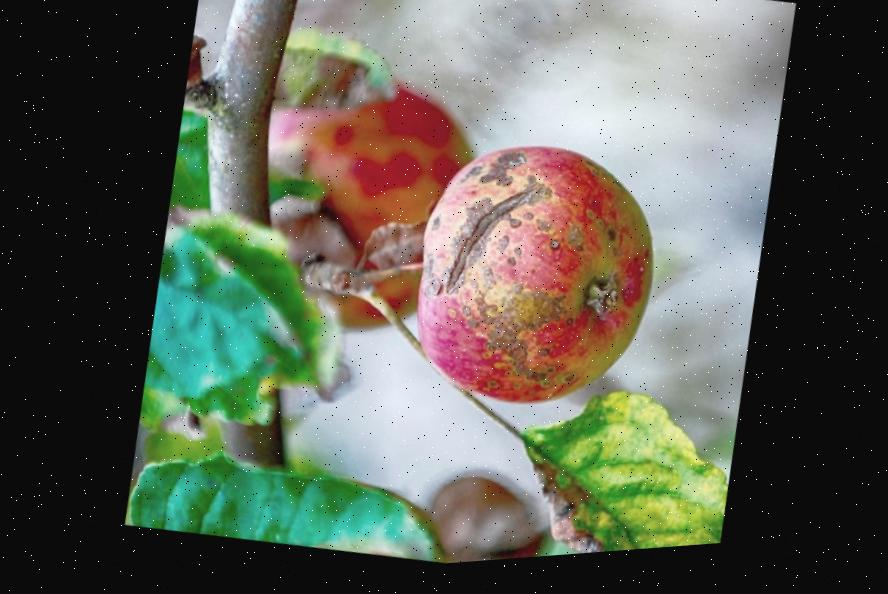SCAB: (340, 85, 684, 438), (245, 462, 501, 578)
